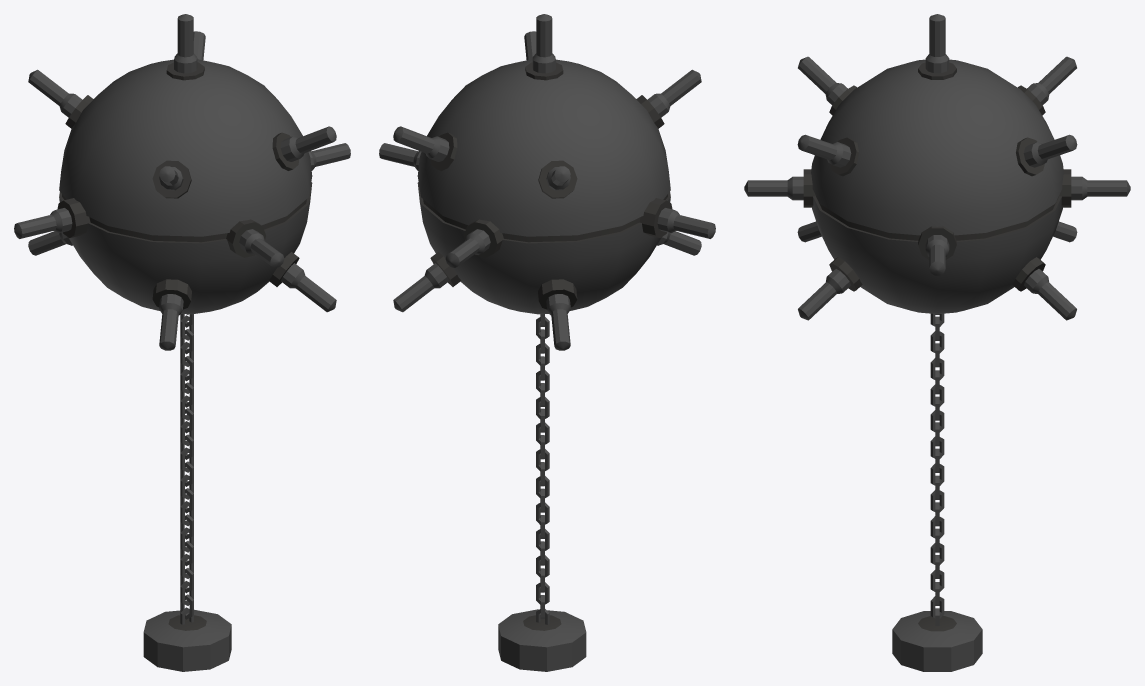
Rendered from Sea Mine.fbx.
The picture shows the model from 3 angles, left to right: view 1: azimuth 30°, elevation 25°; view 2: azimuth 150°, elevation 25°; view 3: azimuth 270°, elevation 25°; orthographic projection.
Visible parts, largest first — view 1: Sphere; view 2: Sphere; view 3: Sphere.
Boxes of the visible parts, bbox=[...] form: Sphere: bbox=[14, 14, 350, 671]; Sphere: bbox=[379, 14, 715, 671]; Sphere: bbox=[744, 14, 1130, 671].
Size of the model in its own units: 627 by 1143 by 627.
Materials: 1 (1 with a texture image).
